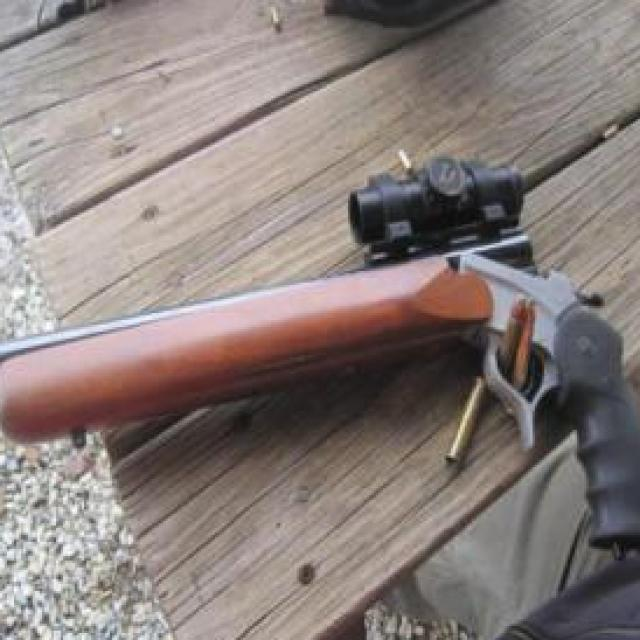pistol: (0, 175, 640, 561)
